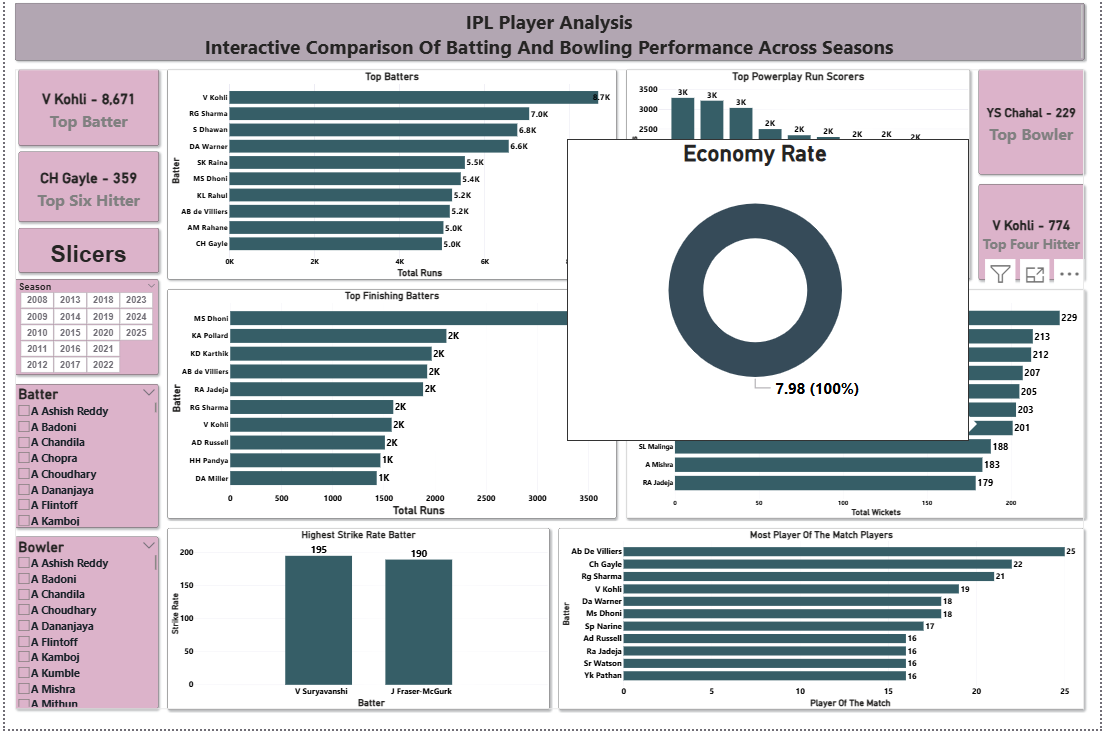

Layout of this report page (visuals, bound fields, positions):
{"tool":"powerbi","page":{"name":"Player Analysis","canvas":[6970,4500],"ordinal":2},"visuals":[{"type":"card","fields":{"Values":["cleaned_deliveries.Top Batter"]},"box":[198.7,704.1,726.9,384],"z":0},{"type":"card","fields":{"Values":["cleaned_deliveries.Top Bowler"]},"box":[6045.4,710.8,726.1,525],"z":1000},{"type":"textbox","box":[64,6,272,176],"z":2000},{"type":"card","fields":{"Values":["cleaned_deliveries.Top Six Hitter"]},"box":[198.7,1138.9,726.9,387.2],"z":3000},{"type":"textbox","title":"IPL Player Analysis","box":[198.7,183.4,6572.7,428],"z":4000},{"type":"card","fields":{"Values":["cleaned_deliveries.Top Four Hitter"]},"box":[6045.4,1291.6,726.1,527.3],"z":5000},{"type":"columnChart","title":"Highest Strike Rate Batter","fields":{"Category":["cleaned_deliveries.batter"],"Y":["cleaned_deliveries.Strike Rate"]},"box":[978.3,3156.4,2407.5,1154],"z":6000},{"type":"barChart","title":"Top Batters","fields":{"Category":["cleaned_deliveries.batter"],"Y":["cleaned_deliveries.Total Runs by Batter"]},"box":[977.7,708.8,2606.2,1108.2],"z":7000},{"type":"slicer","title":"Season Slicer","fields":{"Values":["cleaned_matches.season"]},"box":[198.7,1879.4,720.1,475.5],"z":8000},{"type":"barChart","title":"Top Finishing Batters","fields":{"Category":["cleaned_deliveries.batter"],"Y":["cleaned_deliveries.Total Runs by Batter"]},"box":[978.3,1880.1,2797.2,1207.5],"z":9000},{"type":"barChart","title":"Top Bowlers","fields":{"Category":["cleaned_deliveries.bowler"],"Y":["cleaned_deliveries.Total Wickets"]},"box":[3836.6,1880.1,2934.8,1207.5],"z":10000},{"type":"slicer","fields":{"Values":["cleaned_deliveries.batter"]},"box":[198.7,2422.7,726.1,833.1],"z":11000},{"type":"lineStackedColumnComboChart","title":"Top Powerplay Run Scorers","fields":{"Category":["cleaned_deliveries.batter"],"Y":["cleaned_deliveries.Total Runs by Batter"]},"box":[3645.6,703.1,2346.3,1115.8],"z":12000},{"type":"slicer","fields":{"Values":["cleaned_deliveries.bowler"]},"box":[191.1,3316.9,726.1,993.6],"z":13000},{"type":"textbox","box":[198.7,1573.7,726.9,244.6],"z":14000},{"type":"barChart","title":"Most Player Of The Match Players","fields":{"Y":["cleaned_matches.player_of_match"],"Category":["cleaned_matches.player_of_match"]},"box":[3446.9,3164.1,3324.6,1146.4],"z":15000}]}

Visuals, with their boxes in screenshot pixels (x1, y1, x2, y2), scaled from the page's 6970x4500 canvas onto the 1103x733 screenshot:
card - cleaned_deliveries.Top Batter: 31:115:146:177
card - cleaned_deliveries.Top Bowler: 957:116:1072:201
textbox: 10:1:53:30
card - cleaned_deliveries.Top Six Hitter: 31:186:146:249
"IPL Player Analysis" textbox: 31:30:1072:100
card - cleaned_deliveries.Top Four Hitter: 957:210:1072:296
"Highest Strike Rate Batter" columnChart: 155:514:536:702
"Top Batters" barChart: 155:115:567:296
"Season Slicer" slicer: 31:306:145:384
"Top Finishing Batters" barChart: 155:306:597:503
"Top Bowlers" barChart: 607:306:1072:503
slicer - cleaned_deliveries.batter: 31:395:146:530
"Top Powerplay Run Scorers" lineStackedColumnComboChart: 577:115:948:296
slicer - cleaned_deliveries.bowler: 30:540:145:702
textbox: 31:256:146:296
"Most Player Of The Match Players" barChart: 545:515:1072:702
